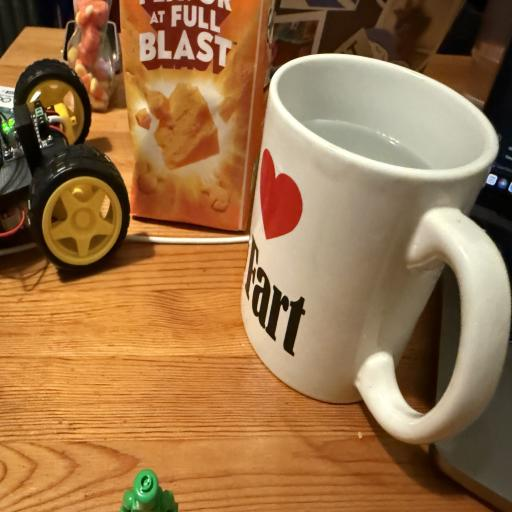Minifig: (120, 469, 178, 512)
